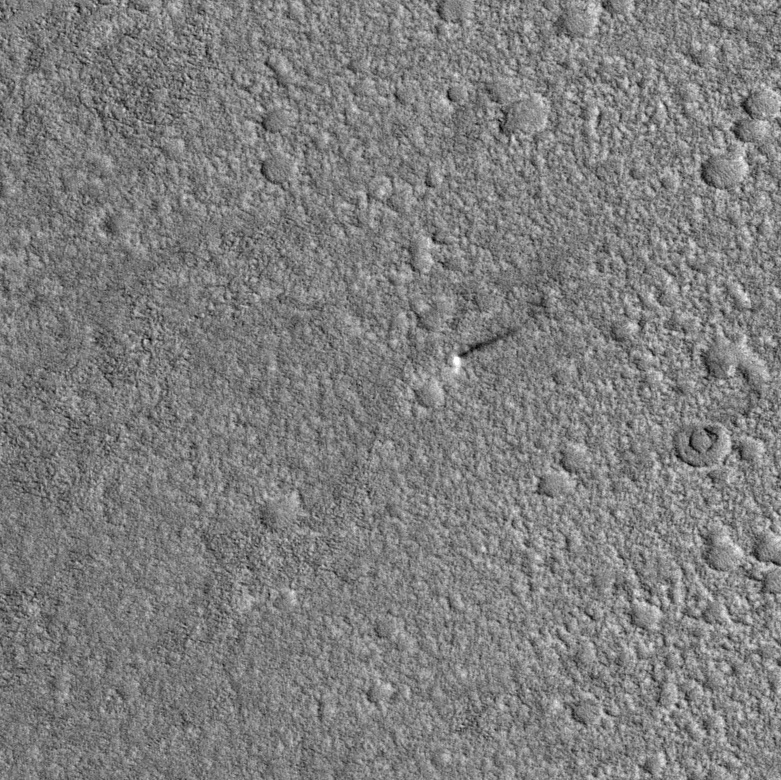dust_devil: (451, 324, 524, 375)
